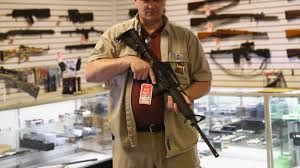rifle: (118, 29, 217, 157), (211, 48, 271, 66), (189, 14, 279, 25), (1, 45, 49, 63), (197, 29, 268, 41), (6, 9, 50, 24), (1, 28, 54, 40), (59, 10, 93, 22)
